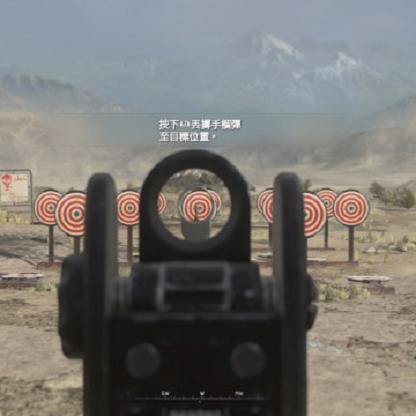target: (334, 190, 369, 227), (54, 191, 82, 236), (181, 190, 216, 220), (305, 191, 327, 235), (119, 189, 137, 228)
